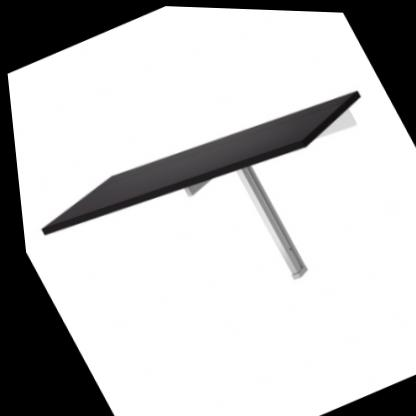Table: (7, 52, 416, 374)
